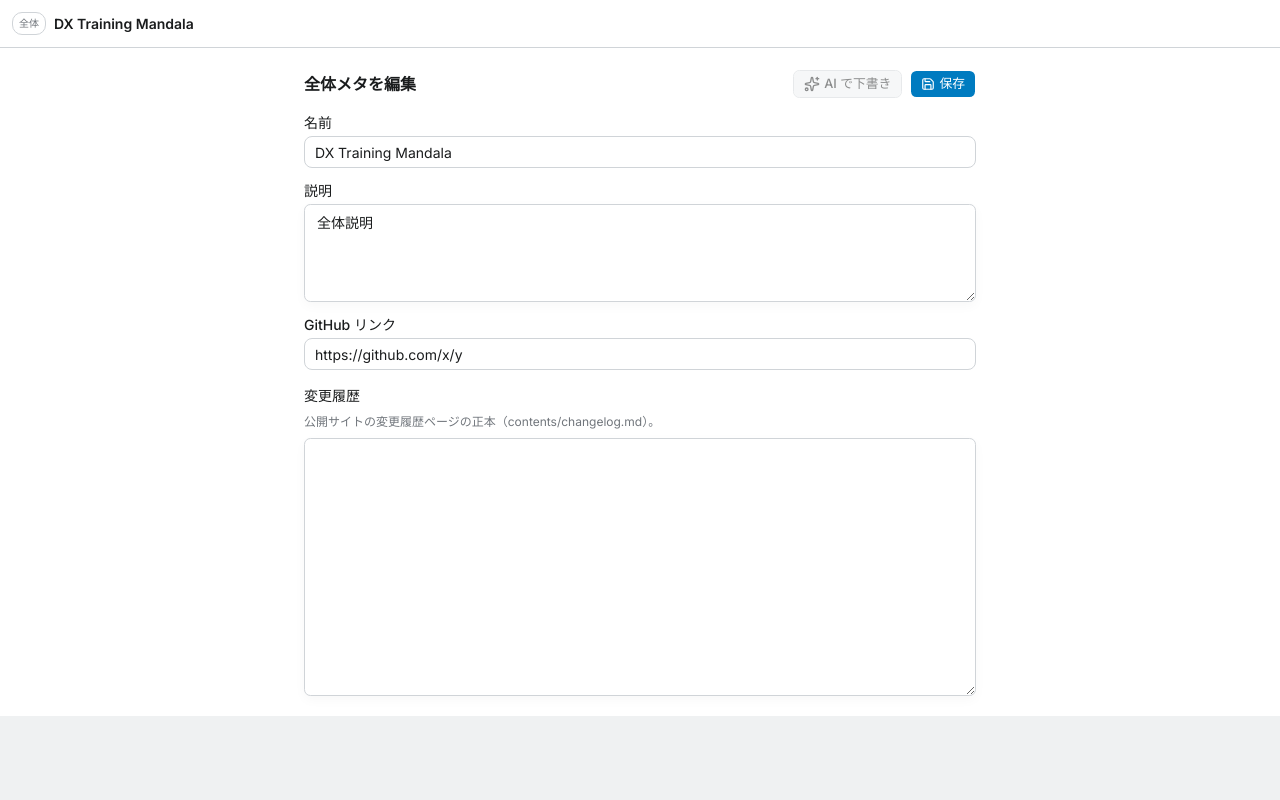
Test case: WorkspaceMetaView › 不正な GitHub URL では保存せずエラーを出す
Replace the text in the field labelled "GitHub リンク" with "not-a-url": {"x": 640, "y": 354} [304,338,976,370]
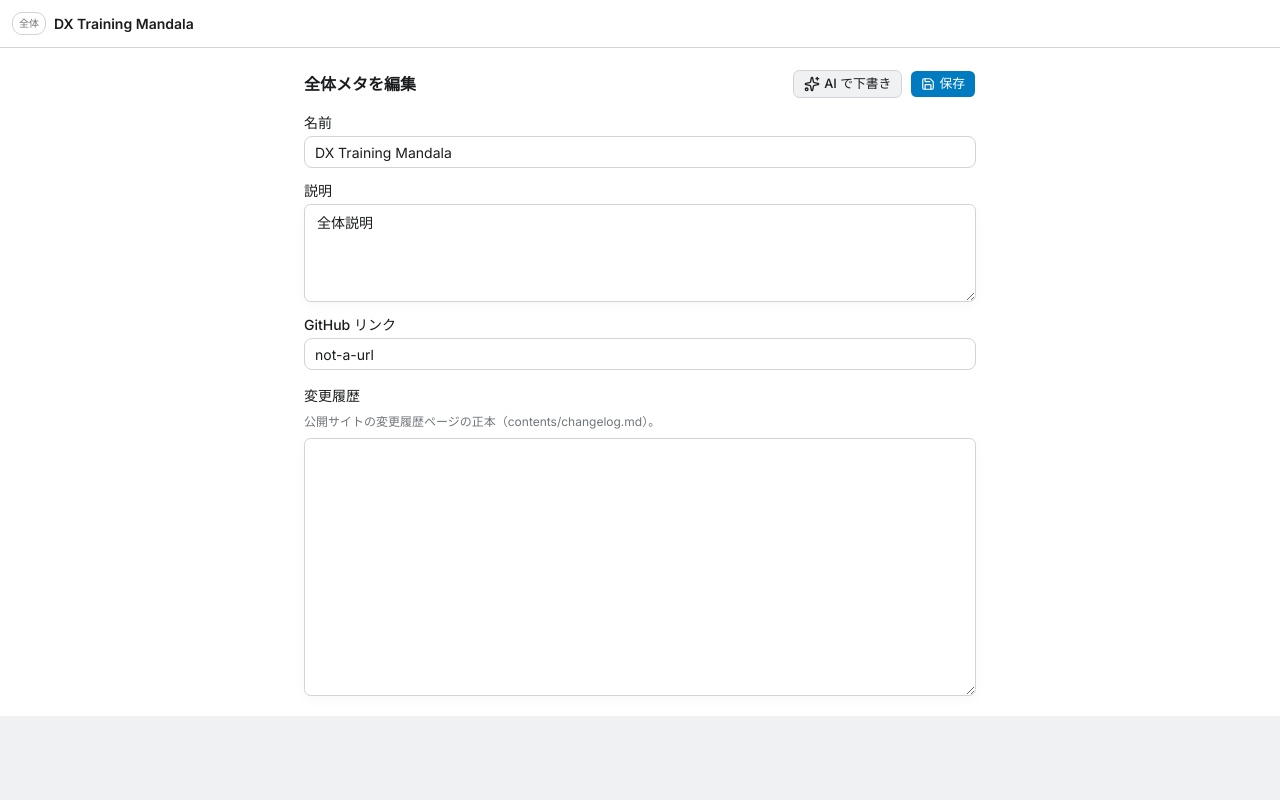
Click the button "保存": {"x": 943, "y": 84} [910,70,976,98]
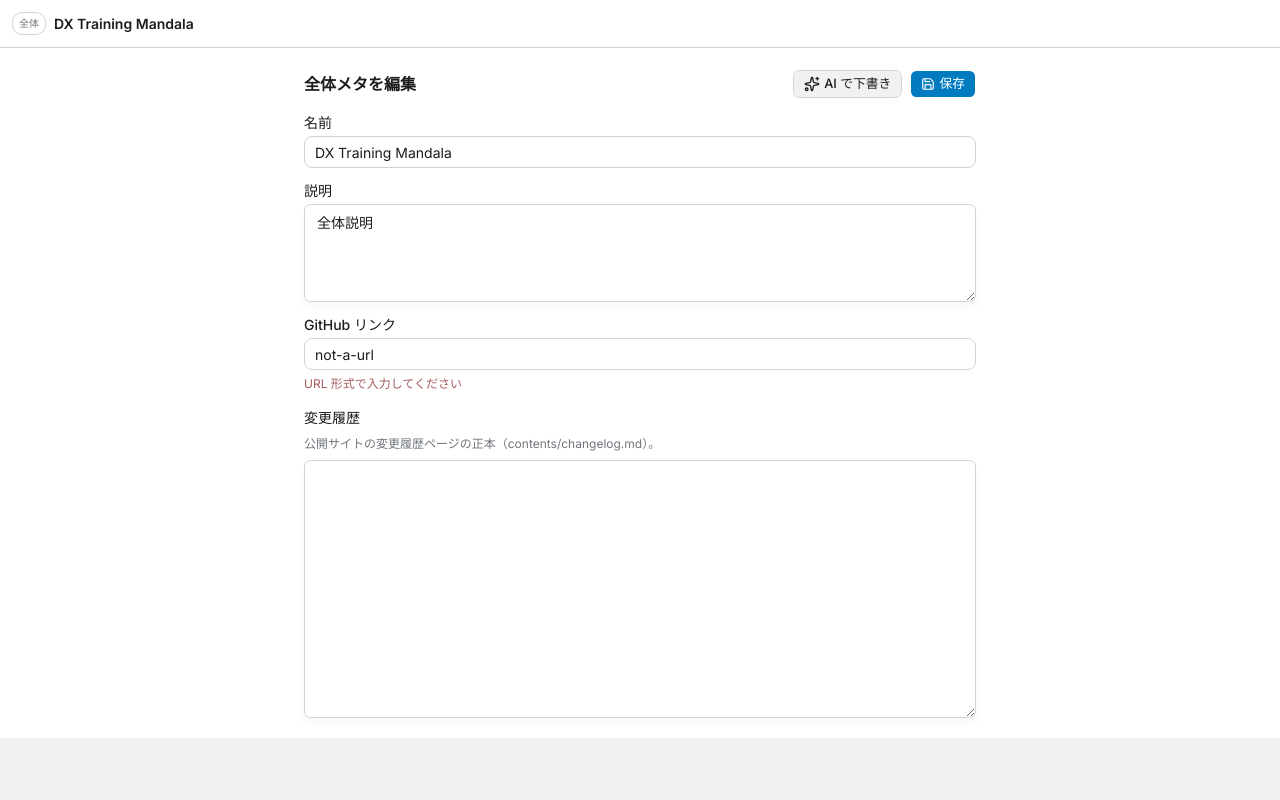
expect the text "URL 形式で入力してください" is shown: met, box [304,376,462,391]
